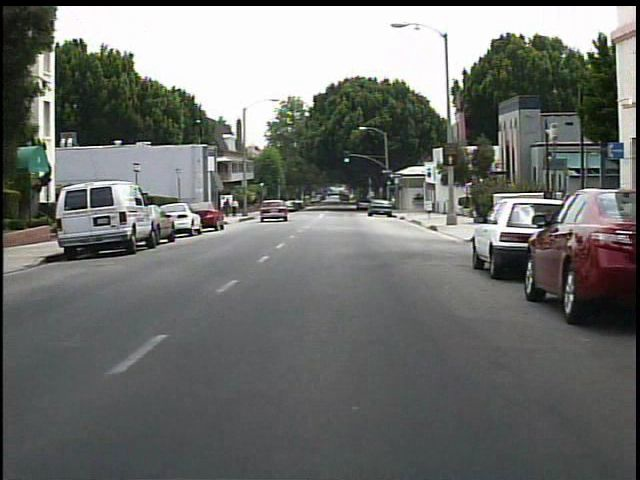person: (222, 197, 234, 220), (232, 198, 243, 220)
